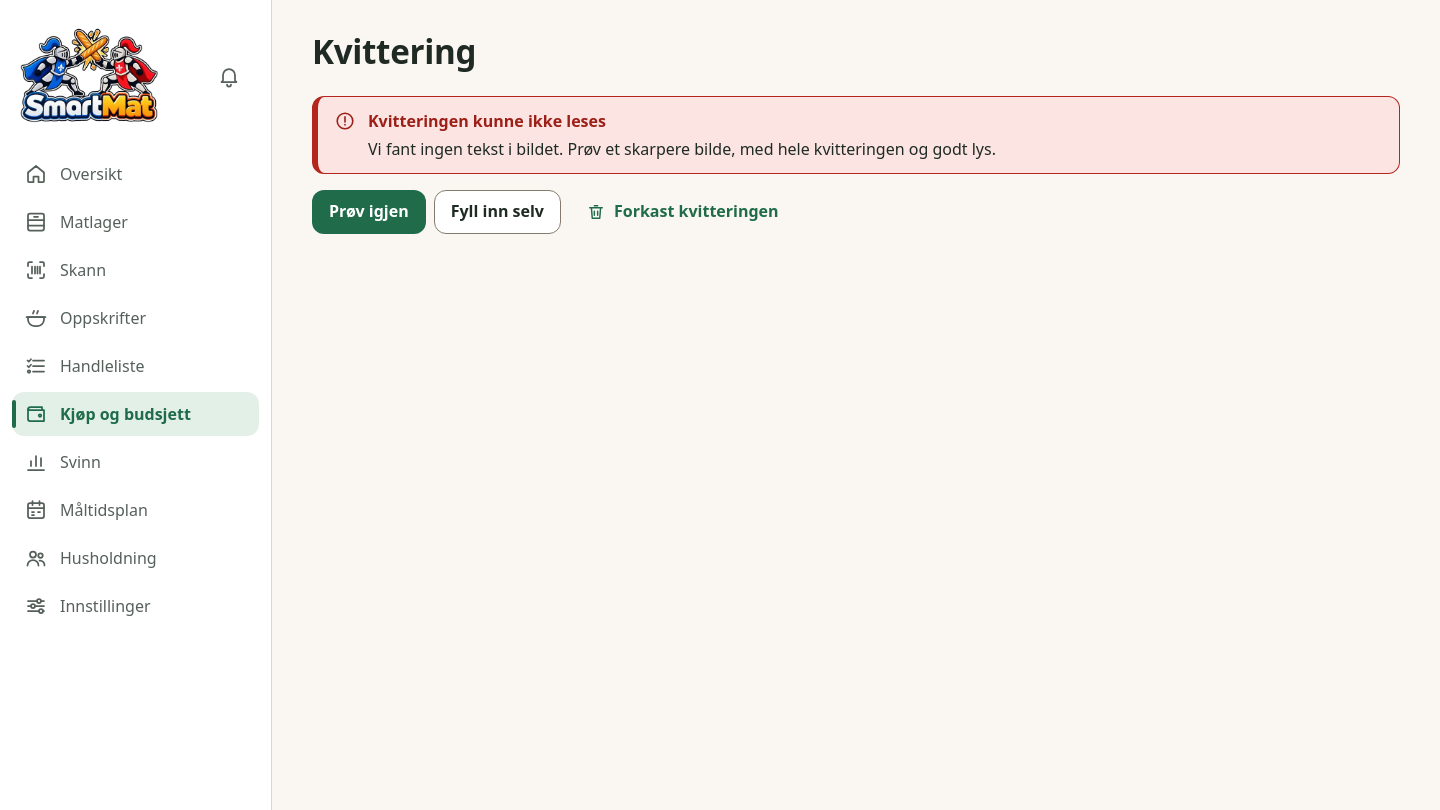
it: FR-RCPT-003 waiting and failing › failed: says why, and "try again" queues it again
This screenshot has width=1440, height=810.
Check: the text "Vi fant ingen tekst i bildet" is shown, box [368,138,996,160]
Click the button "Prøv igjen" at (369, 212), box [312,190,426,234]
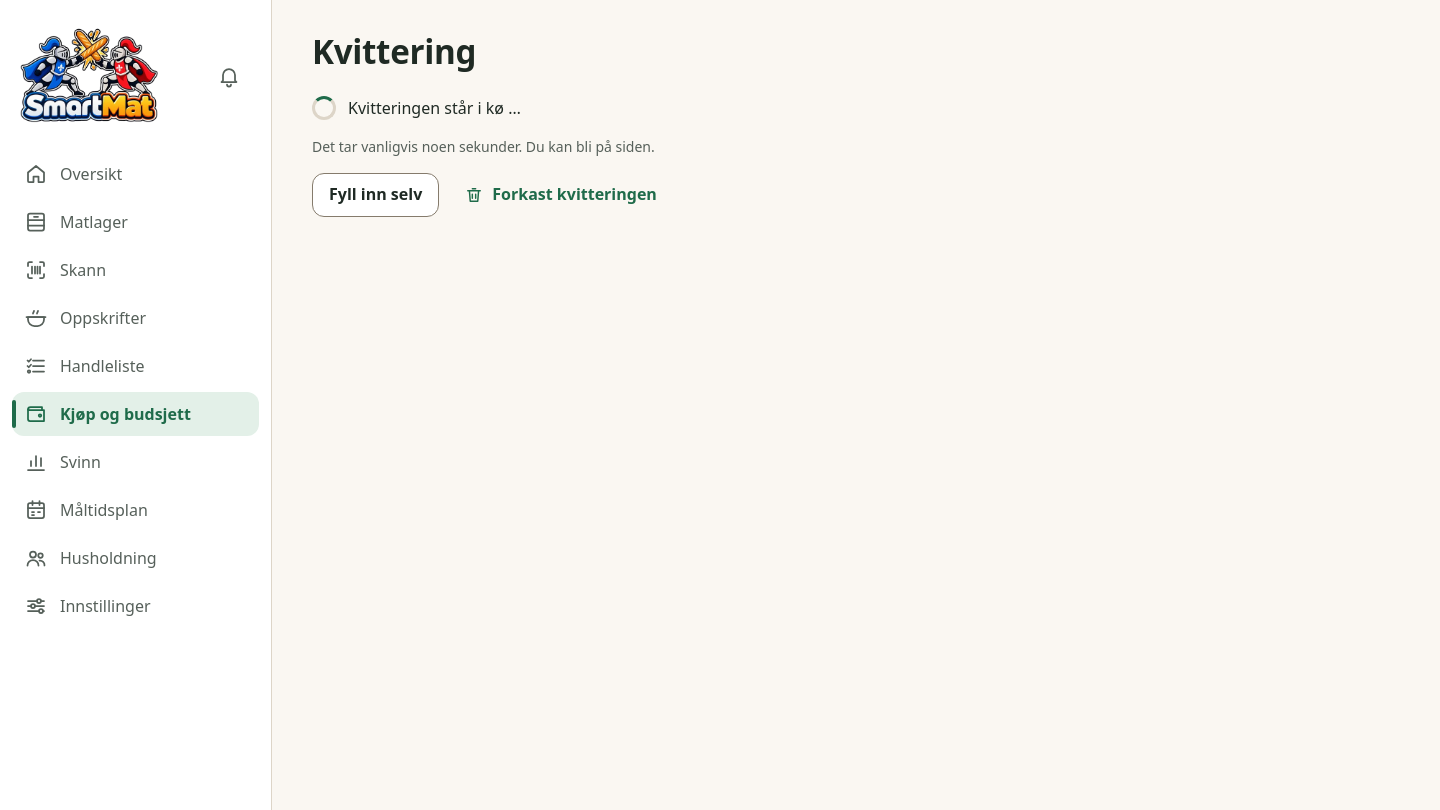
Check: the text "Kvitteringen står i kø …" is shown, box [312,96,521,120]
